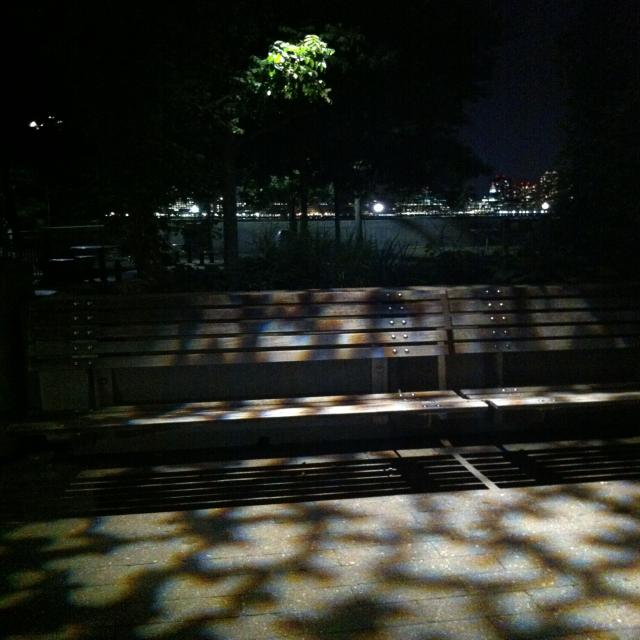chair: (31, 290, 640, 483)
